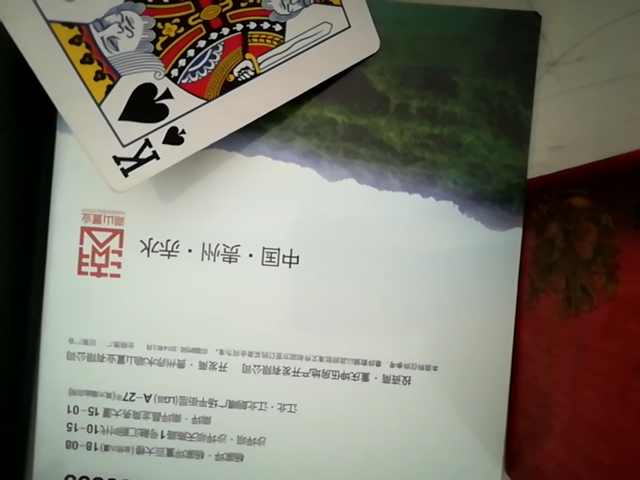ht k: (10, 1, 399, 201)
